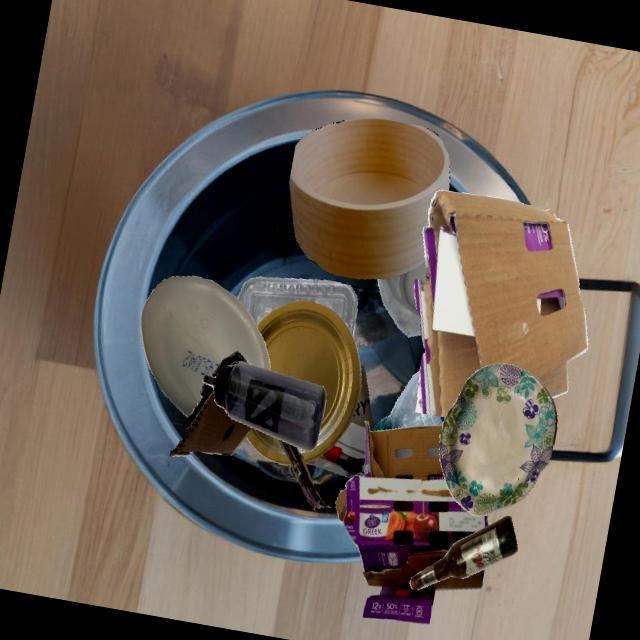cardboard: (413, 190, 587, 417), (335, 420, 487, 624), (439, 363, 557, 516), (209, 365, 307, 500)
combustible waste: (288, 118, 449, 278)
glass: (409, 515, 517, 590)
paper: (256, 300, 361, 462), (304, 364, 373, 478)
plastic: (140, 276, 270, 417), (202, 361, 326, 451), (237, 276, 357, 340), (371, 369, 444, 431), (377, 260, 426, 336)
